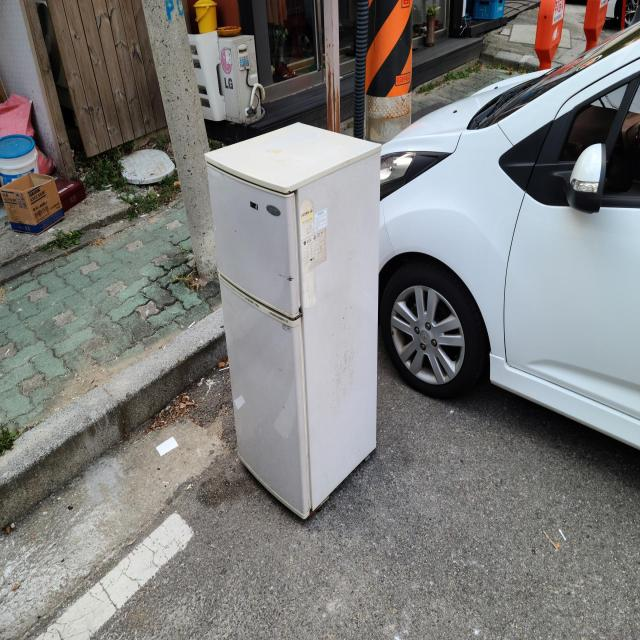refrigerator: (204, 119, 383, 522)
